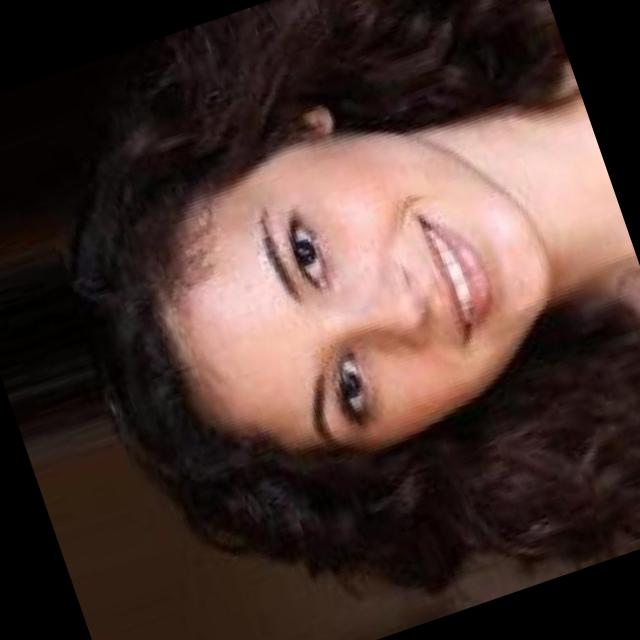bareface: (68, 96, 592, 576)
